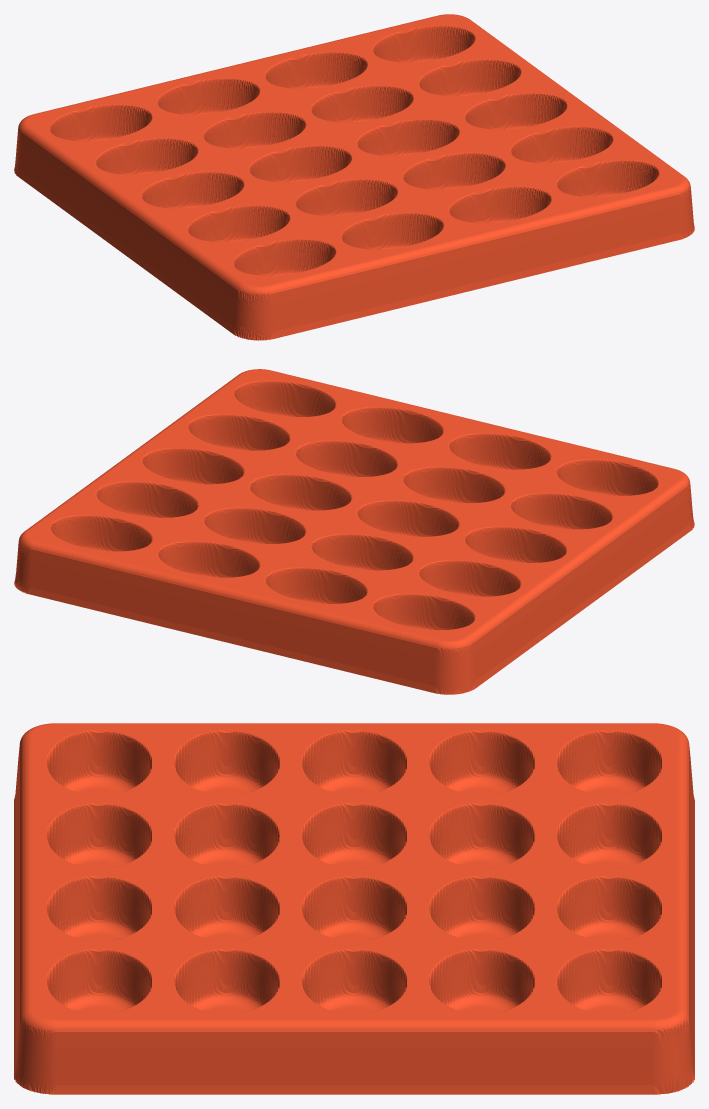
Rendered from mold.glb.
3 views of the same model, one above another, from view 1: azimuth 30°, elevation 25°; view 2: azimuth 150°, elevation 25°; view 3: azimuth 270°, elevation 25° (orthographic). The views are drawn at different scales.
Visible parts, largest first — view 1: geometry_0; view 2: geometry_0; view 3: geometry_0.
Boxes of the visible parts, x1,y1,x2,y2 form: geometry_0: (14, 14, 694, 340); geometry_0: (14, 369, 694, 694); geometry_0: (14, 723, 694, 1094).
Size of the model in its own units: 0.1563 by 0.0159 by 0.1451.
